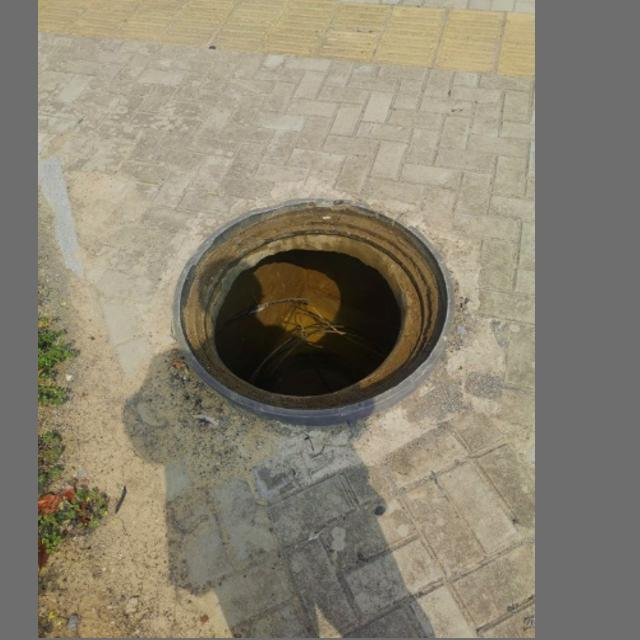lose: (144, 183, 464, 419)
